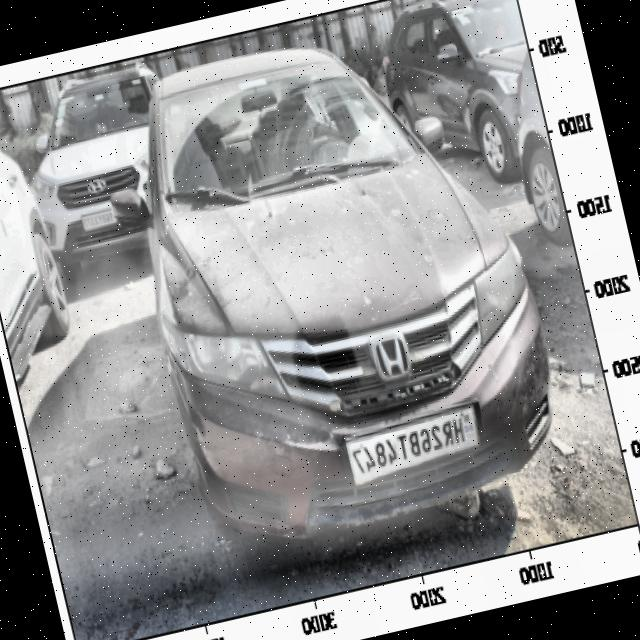license_plate: (343, 408, 474, 486)
